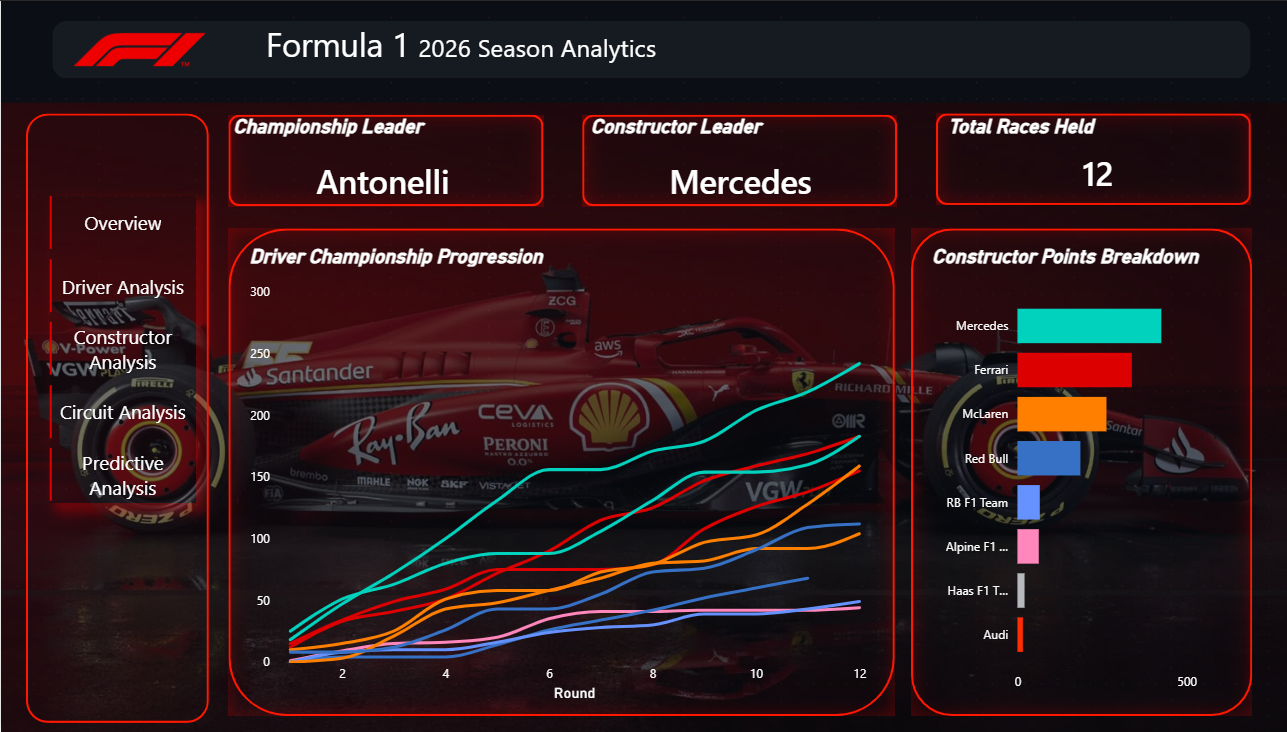

What the dashboard file says about the page in this screenshot:
{"tool":"powerbi","page":{"name":"Overview","canvas":[1280,720],"ordinal":0},"visuals":[{"type":"image","box":[0,99.5,1280,621],"z":0},{"type":"shape","box":[50.3,19.6,1180,56.4],"z":1000},{"type":"image","box":[34.4,9.8,203.7,76.1],"z":2000},{"type":"shape","box":[24.5,110.4,180,600],"z":3000},{"type":"shape","box":[224,112,310,90],"z":4000},{"type":"shape","box":[920.3,110.4,310,90],"z":5000},{"type":"shape","box":[572.1,112,310,90],"z":6000},{"type":"shape","box":[224,224,656,480],"z":7000},{"type":"shape","box":[896,224,336,480],"z":8000},{"type":"cardVisual","title":"Championship Leader","fields":{"Data":["Min(driver_standings_current.familyName)"]},"box":[224,112,304,96],"z":9000},{"type":"cardVisual","title":"Constructor Leader","fields":{"Data":["Min(constructor_standings_current.constructorName)"]},"box":[576,112,304,96],"z":10000},{"type":"cardVisual","title":"Total Races Held","fields":{"Data":["Count(complete_race_results.Round)"]},"box":[928,112,304,80],"z":11000},{"type":"lineChart","title":"Driver Championship Progression","fields":{"Category":["driver_points_per_round.Round"],"Series":["driver_points_per_round.Abbreviation"],"Y":["driver_points_per_round.Points Running Total"]},"box":[240,240,620.4,454.6],"z":12000},{"type":"clusteredBarChart","title":"Constructor Points Breakdown","fields":{"Category":["constructor_points_breakdown.constructorName"],"Y":["Sum(constructor_points_breakdown.points)"]},"box":[912,240,304,448],"z":13000},{"type":"pageNavigator","box":[48,192,144,302.8],"z":14000},{"type":"textbox","box":[256,16,432,64],"z":15000}]}

Visuals, with their boxes in screenshot pixels (x1, y1, x2, y2), scaled from the page's 1280x720 canvas onto the 1287x732 screenshot:
image: box=[0, 101, 1286, 731]
shape: box=[51, 20, 1237, 77]
image: box=[35, 10, 239, 87]
shape: box=[25, 112, 206, 722]
shape: box=[225, 114, 537, 205]
shape: box=[925, 112, 1237, 204]
shape: box=[575, 114, 887, 205]
shape: box=[225, 228, 885, 716]
shape: box=[901, 228, 1239, 716]
"Championship Leader" cardVisual: box=[225, 114, 531, 211]
"Constructor Leader" cardVisual: box=[579, 114, 885, 211]
"Total Races Held" cardVisual: box=[933, 114, 1239, 195]
"Driver Championship Progression" lineChart: box=[241, 244, 865, 706]
"Constructor Points Breakdown" clusteredBarChart: box=[917, 244, 1223, 699]
pageNavigator: box=[48, 195, 193, 503]
textbox: box=[257, 16, 692, 81]
